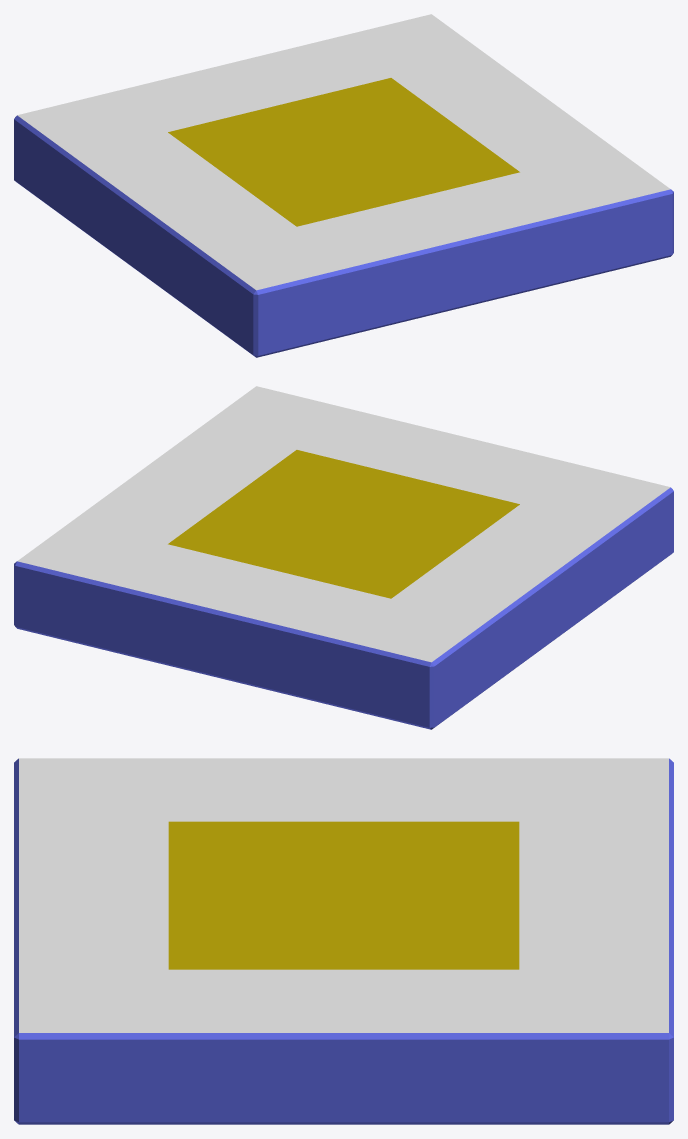
Rendered from FightArea.fbx.
3 views of the same model, one above another, from view 1: azimuth 30°, elevation 25°; view 2: azimuth 150°, elevation 25°; view 3: azimuth 270°, elevation 25° (orthographic). The views are drawn at different scales.
Parts seen in each view (by area): view 1: ArenaMain; view 2: ArenaMain; view 3: ArenaMain.
Part boxes in pixels (x1,y1,x2,y2): ArenaMain: [14, 14, 673, 357]; ArenaMain: [14, 386, 673, 729]; ArenaMain: [14, 758, 673, 1124].
Size of the model in its own units: 2057 by 2057 by 315.
